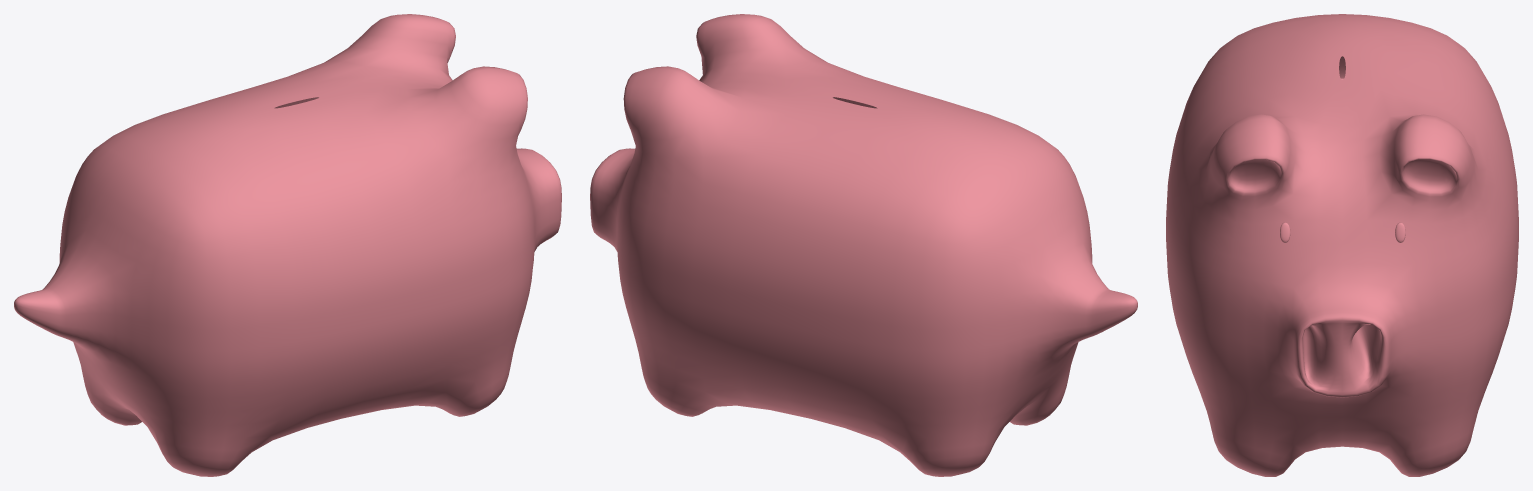
3 renders of one model, left to right at view 1: azimuth 30°, elevation 25°; view 2: azimuth 150°, elevation 25°; view 3: azimuth 270°, elevation 25°, orthographic. The views are drawn at different scales.
Parts seen in each view (by area): view 1: Cube_0; view 2: Cube_0; view 3: Cube_0.
Boxes of the visible parts, box(x1,y1,x2,y2) form: Cube_0: box(14, 14, 561, 476); Cube_0: box(590, 14, 1137, 476); Cube_0: box(1166, 14, 1518, 476).
Size of the model in its own units: 0.5962 by 0.3645 by 0.3208.
